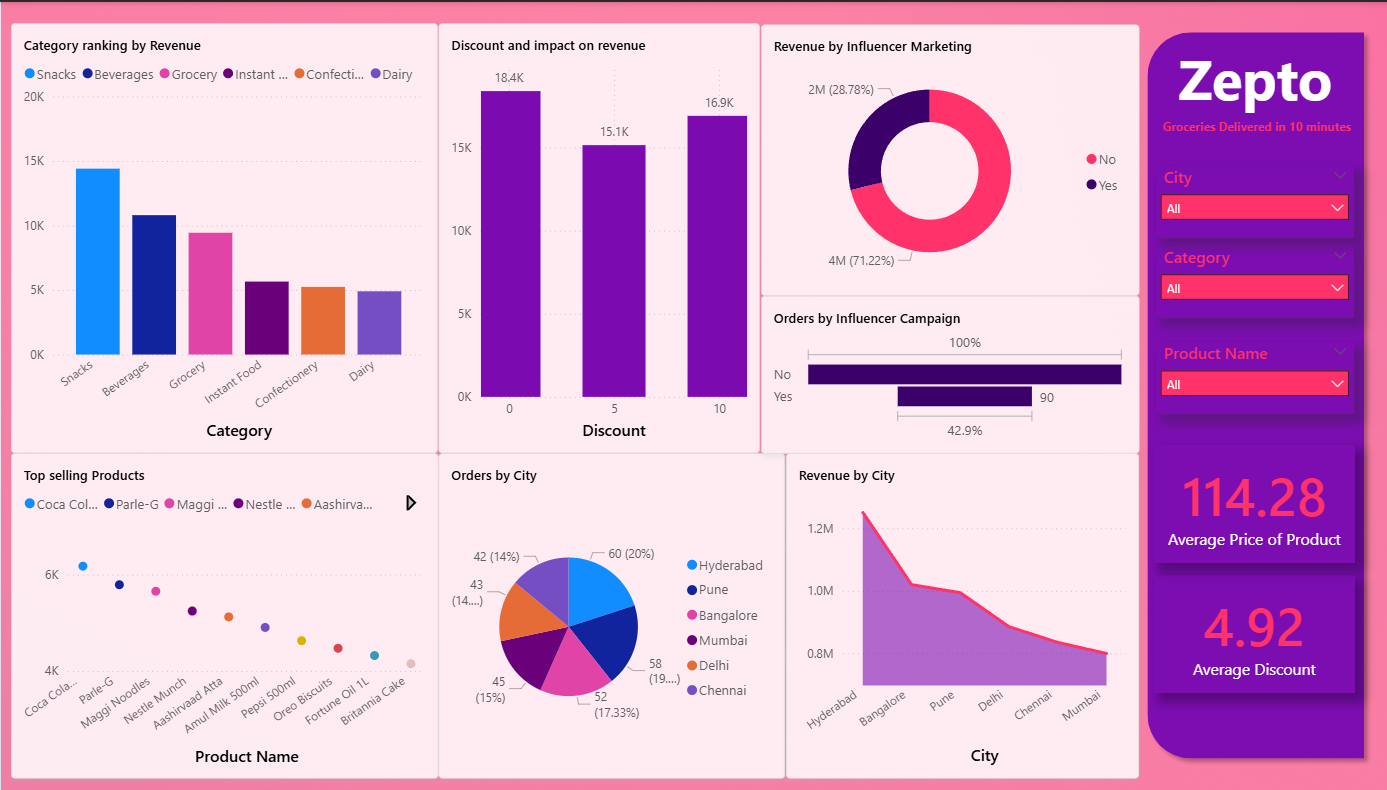

This screenshot's page, from the dashboard's own definition file:
{"tool":"powerbi","page":{"name":"Page 1","canvas":[1400,800],"ordinal":0},"visuals":[{"type":"columnChart","title":"Category ranking by Revenue","fields":{"Category":["zepto_sales_dataset.Category"],"Y":["Sum(zepto_sales_dataset.Orders)"],"Series":["zepto_sales_dataset.Category"]},"box":[10.5,21,430.7,433.7],"z":0},{"type":"lineChart","title":"Top selling Products","fields":{"Y":["Sum(zepto_sales_dataset.Orders)"],"Category":["zepto_sales_dataset.Product Name"],"Series":["zepto_sales_dataset.Product Name"]},"box":[10.2,455.3,431.1,328.1],"z":1000},{"type":"clusteredColumnChart","title":"Discount and impact on revenue","fields":{"Y":["Sum(zepto_sales_dataset.Orders)"],"Category":["zepto_sales_dataset.Discount"]},"box":[441.3,21.6,324.3,433.7],"z":2000},{"type":"pieChart","title":"Orders by City","fields":{"Category":["zepto_sales_dataset.City"],"Y":["CountNonNull(zepto_sales_dataset.City)"]},"box":[441.3,455.3,349.7,328.1],"z":3000},{"type":"donutChart","title":"Revenue by Influencer Marketing","fields":{"Category":["zepto_sales_dataset.Influencer Active"],"Y":["Sum(zepto_sales_dataset.Total Revenue)"]},"box":[765.6,22.9,381.5,273.4],"z":4000},{"type":"funnel","title":"Orders by Influencer Campaign","fields":{"Y":["CountNonNull(zepto_sales_dataset.Orders)"],"Category":["zepto_sales_dataset.Influencer Active"]},"box":[765.6,296.3,381.5,159],"z":5000},{"type":"areaChart","title":"Revenue by City","fields":{"Category":["zepto_sales_dataset.City"],"Y":["Sum(zepto_sales_dataset.Total Revenue)"]},"box":[791.1,455.3,356.1,328.1],"z":6000},{"type":"shape","box":[1147.2,21.6,236.6,750.4],"z":7000},{"type":"textbox","box":[1156.1,33.1,217.5,85.2],"z":8000},{"type":"textbox","box":[1159.9,110.6,213.7,29.3],"z":9000},{"type":"slicer","fields":{"Values":["zepto_sales_dataset.City"]},"box":[1165,165.3,199.7,72.5],"z":10000},{"type":"slicer","fields":{"Values":["zepto_sales_dataset.Category"]},"box":[1165,245.5,199.7,72.5],"z":11000},{"type":"slicer","fields":{"Values":["zepto_sales_dataset.Product Name"]},"box":[1165,343.4,199.7,72.5],"z":12000},{"type":"card","fields":{"Values":["Avg(zepto_sales_dataset.Discounted Price)"]},"box":[1162.4,446.4,203.5,119.5],"z":14001},{"type":"card","fields":{"Values":["Avg(zepto_sales_dataset.Discount)"]},"box":[1162.4,577.4,203.5,119.5],"z":14002}]}

Visuals, with their boxes in screenshot pixels (x1, y1, x2, y2), scaled from the page's 1400x800 canvas onto the 1387x790 screenshot:
"Category ranking by Revenue" columnChart: bbox=(10, 21, 437, 449)
"Top selling Products" lineChart: bbox=(10, 450, 437, 774)
"Discount and impact on revenue" clusteredColumnChart: bbox=(437, 21, 758, 450)
"Orders by City" pieChart: bbox=(437, 450, 784, 774)
"Revenue by Influencer Marketing" donutChart: bbox=(758, 23, 1136, 293)
"Orders by Influencer Campaign" funnel: bbox=(758, 293, 1136, 450)
"Revenue by City" areaChart: bbox=(784, 450, 1137, 774)
shape: bbox=(1137, 21, 1371, 762)
textbox: bbox=(1145, 33, 1361, 117)
textbox: bbox=(1149, 109, 1361, 138)
slicer - zepto_sales_dataset.City: bbox=(1154, 163, 1352, 235)
slicer - zepto_sales_dataset.Category: bbox=(1154, 242, 1352, 314)
slicer - zepto_sales_dataset.Product Name: bbox=(1154, 339, 1352, 411)
card - Avg(zepto_sales_dataset.Discounted Price): bbox=(1152, 441, 1353, 559)
card - Avg(zepto_sales_dataset.Discount): bbox=(1152, 570, 1353, 688)
